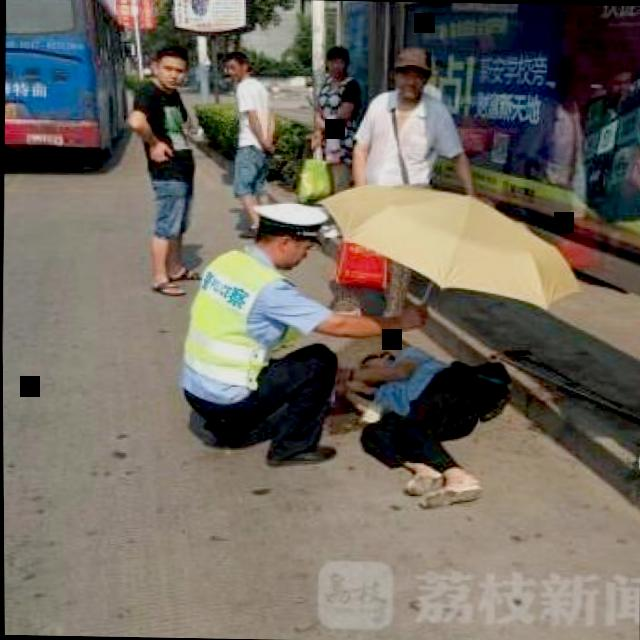Fall-Detected: (332, 312, 524, 514)
